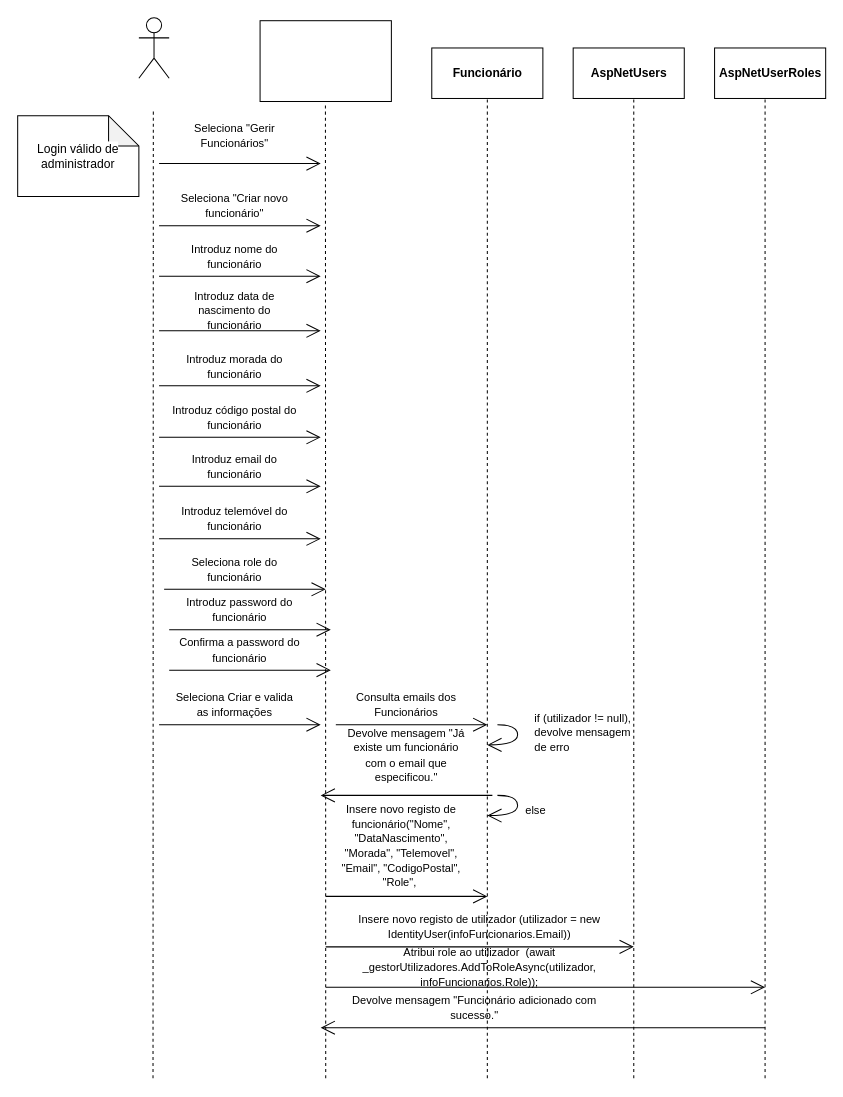
This 843x1097 diagram has some shape labels left out. Here are the shapes that lost their labels. From the top down, the centre of each, then its label:
At pixel 153 47: "Administrador".
At pixel 325 61: "«interface» Criar novo funcionário".
